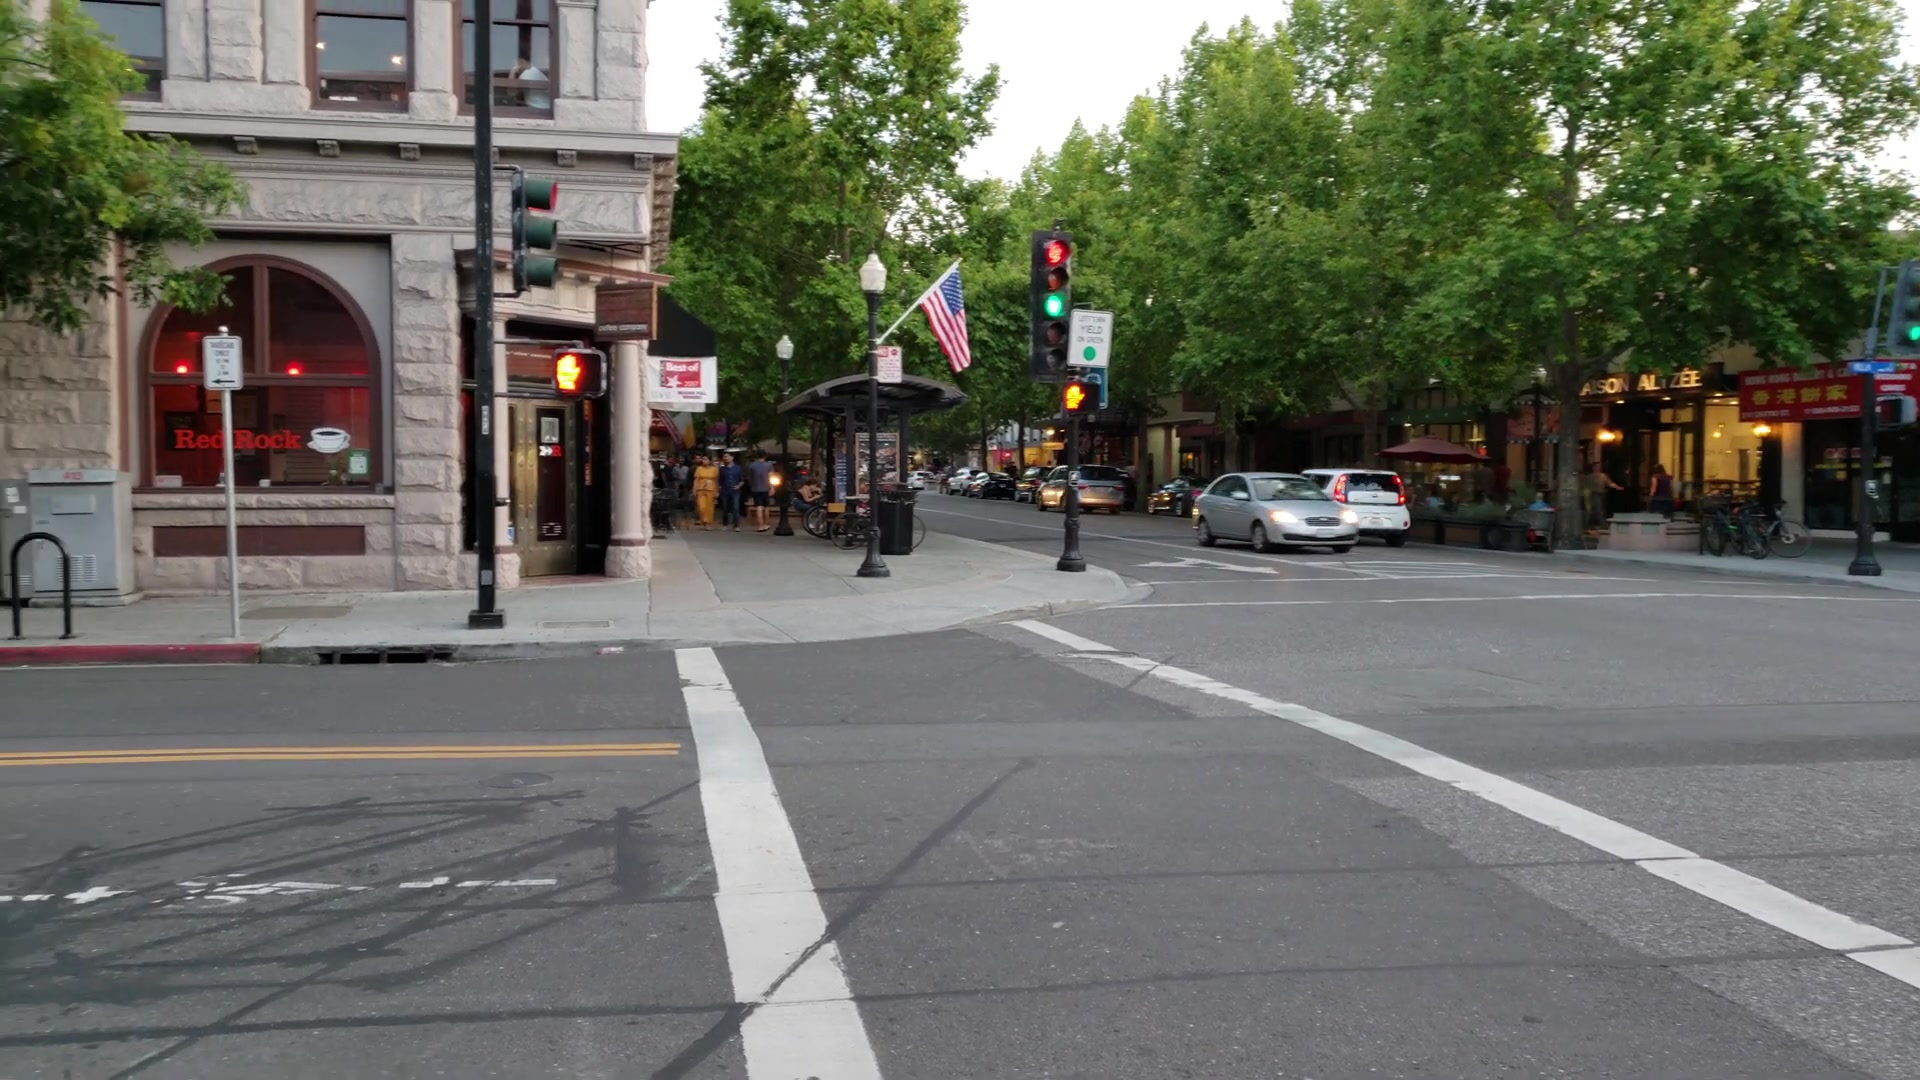vehicle: (1193, 472, 1360, 555)
